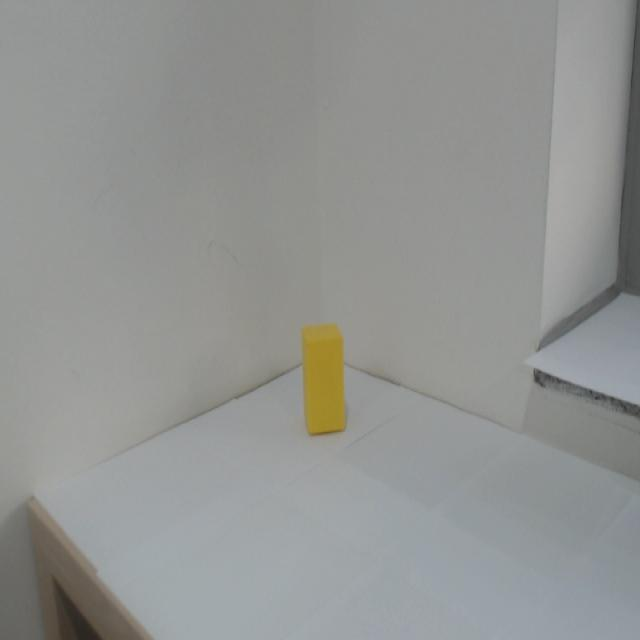cube: (296, 315, 353, 449)
